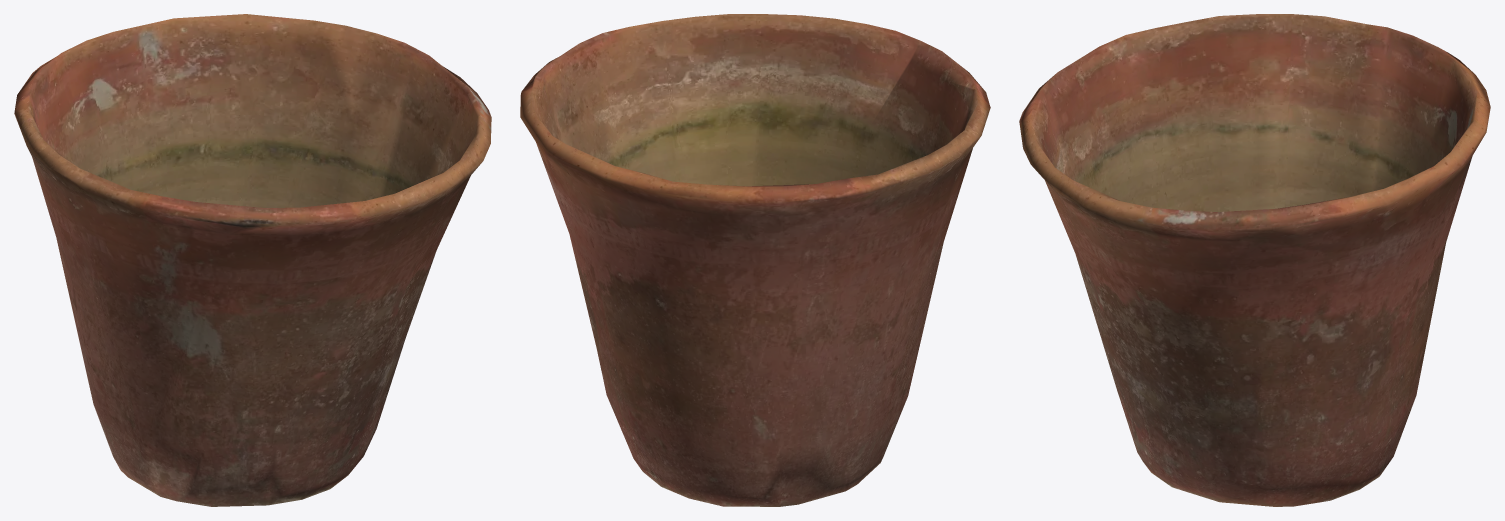
3 views of the same model, side by side, from view 1: azimuth 30°, elevation 25°; view 2: azimuth 150°, elevation 25°; view 3: azimuth 270°, elevation 25° (orthographic).
Parts seen in each view (by area): view 1: planter_pot_clay; view 2: planter_pot_clay; view 3: planter_pot_clay.
Part boxes in pixels (x1,y1,x2,y2): planter_pot_clay: (14, 14, 491, 506); planter_pot_clay: (520, 14, 990, 506); planter_pot_clay: (1019, 14, 1490, 506).
Bounding box in the file's own units: 0.266 × 0.2218 × 0.2635.
1 material, 1 textured.
